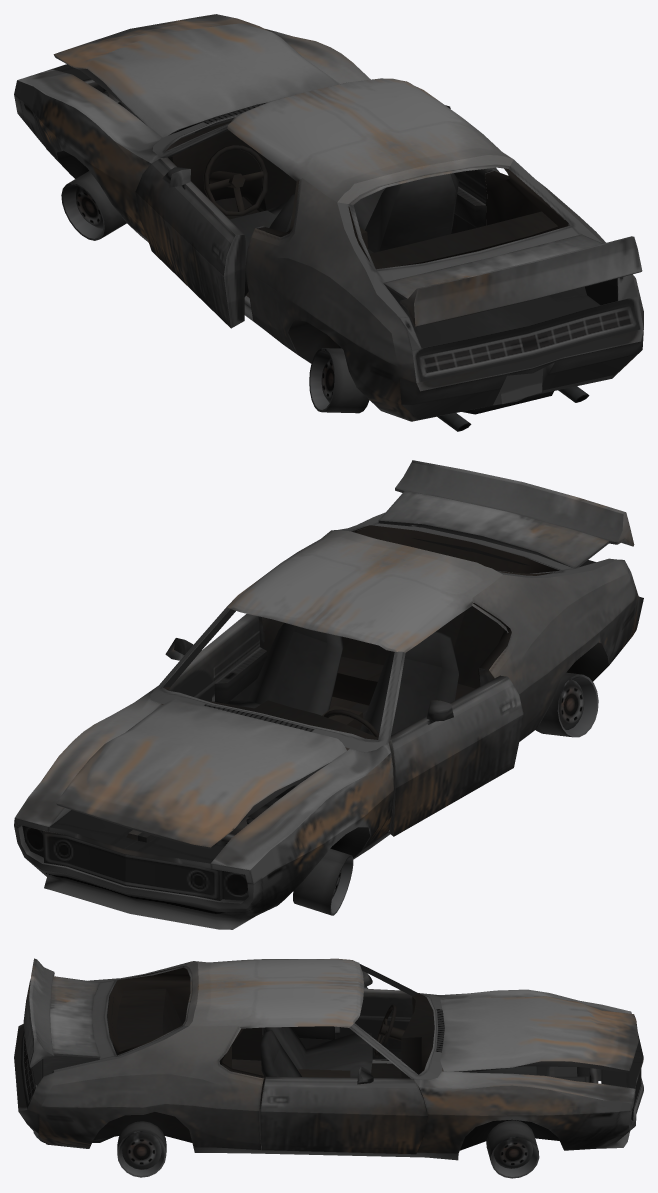
Rendered from Vehicle_en72_Javelin_Burned.fbx.
The picture shows the model from 3 angles, top to bottom: view 1: azimuth 30°, elevation 25°; view 2: azimuth 150°, elevation 25°; view 3: azimuth 270°, elevation 25°; orthographic projection. The views are drawn at different scales.
Parts seen in each view (by area): view 1: Burned; view 2: Burned; view 3: Burned.
Boxes of the visible parts, <box> form: Burned: <box>14,14,643,431</box>; Burned: <box>14,460,643,929</box>; Burned: <box>14,958,643,1178</box>.
Bounding box in the file's own units: 401 × 253 × 967.
